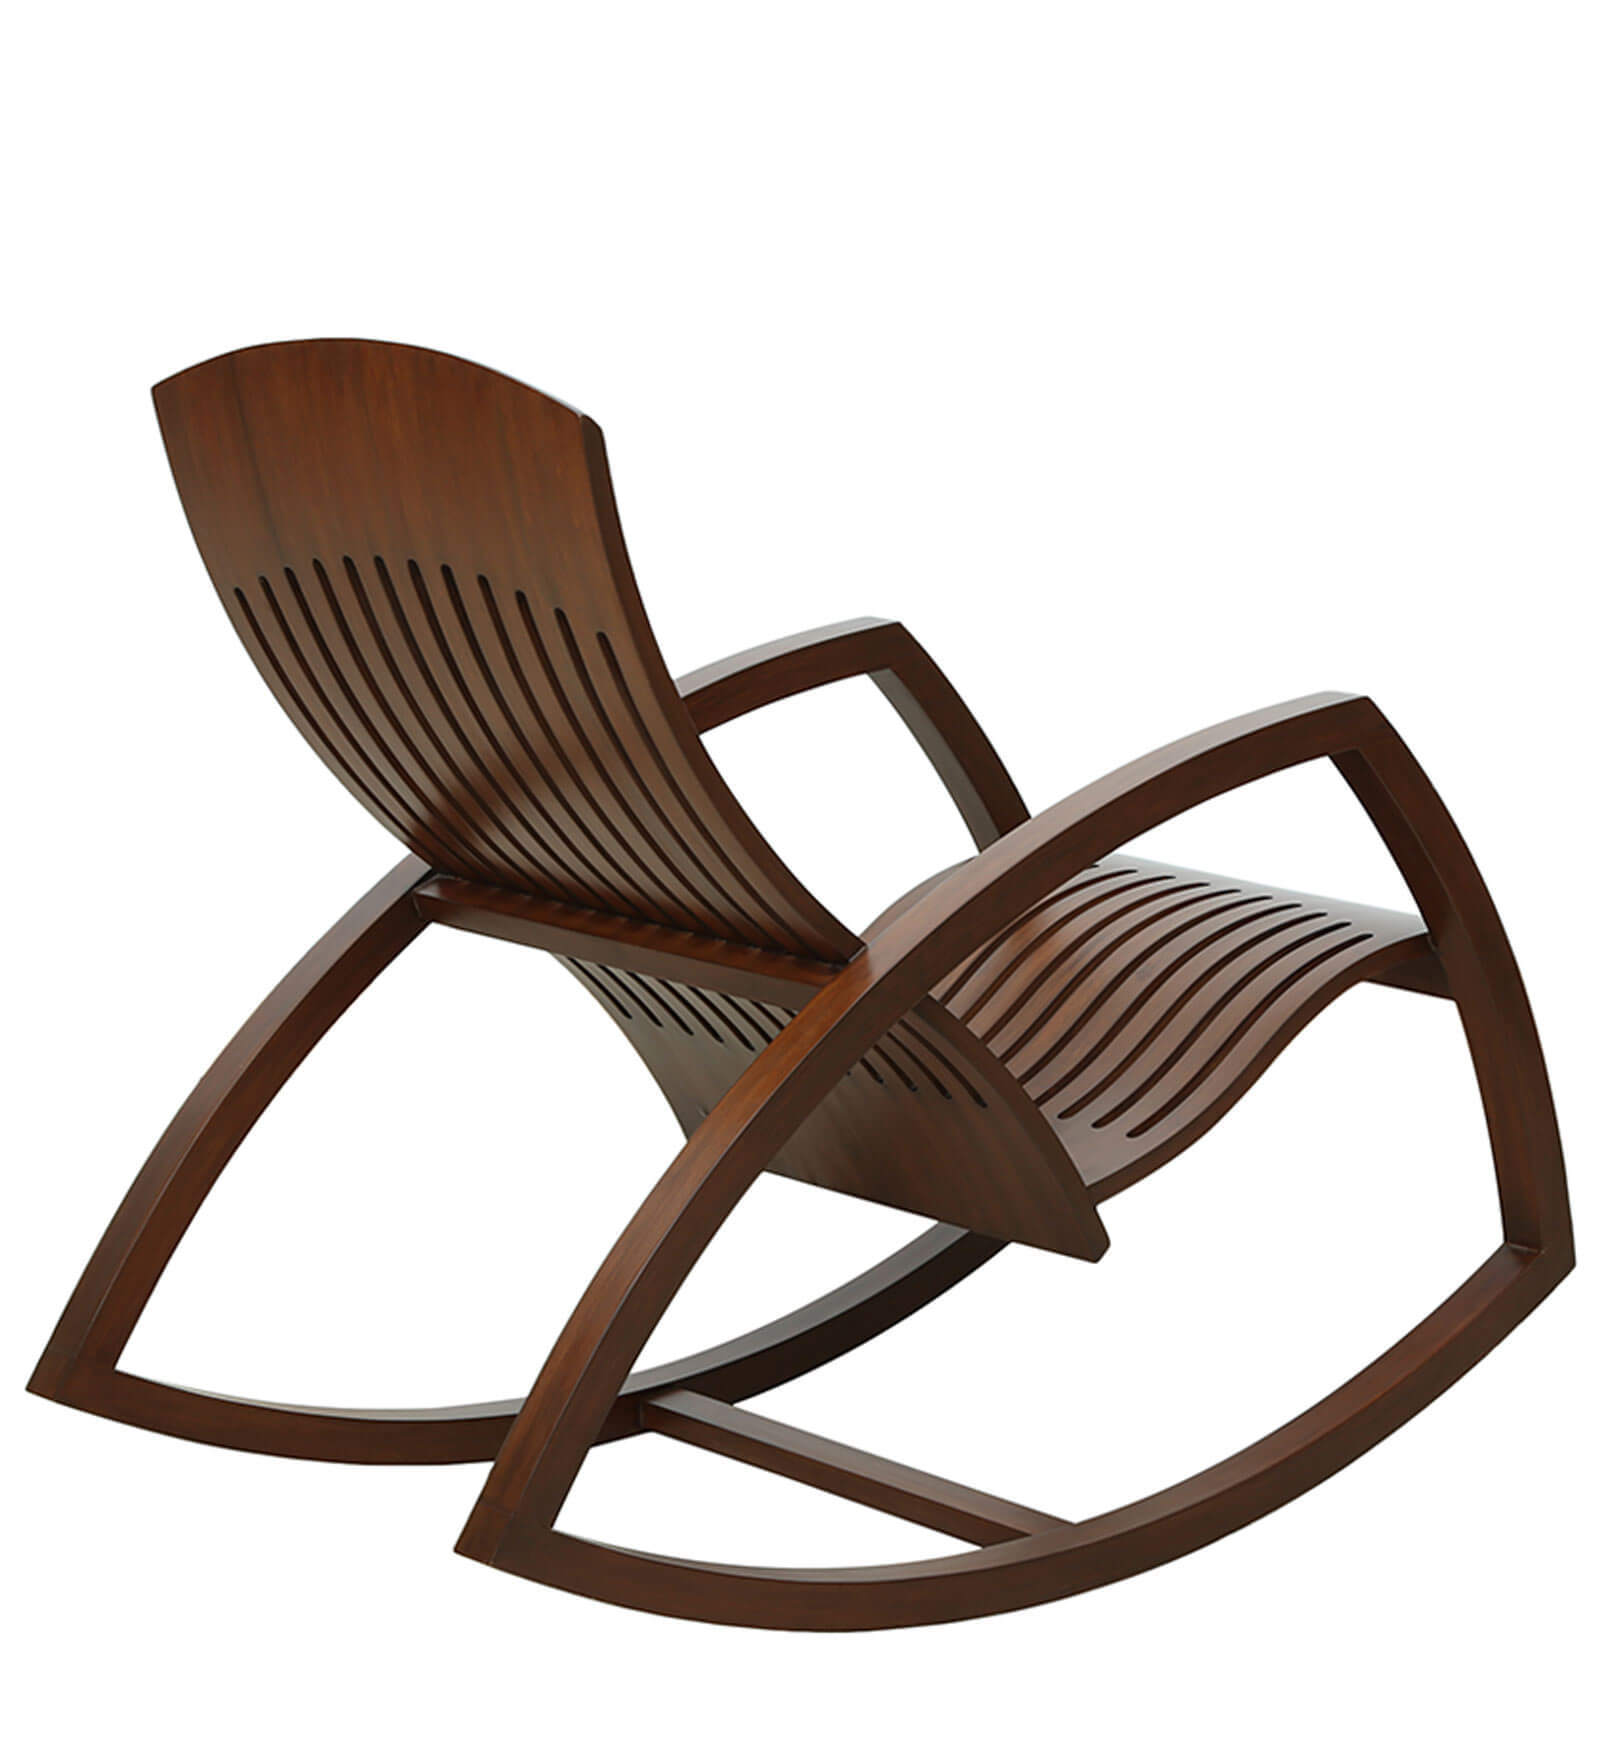Gaivota Rocking Chair in Semi-Gloss Walnut Finish by INDOORS: (14, 313, 1598, 1685)
